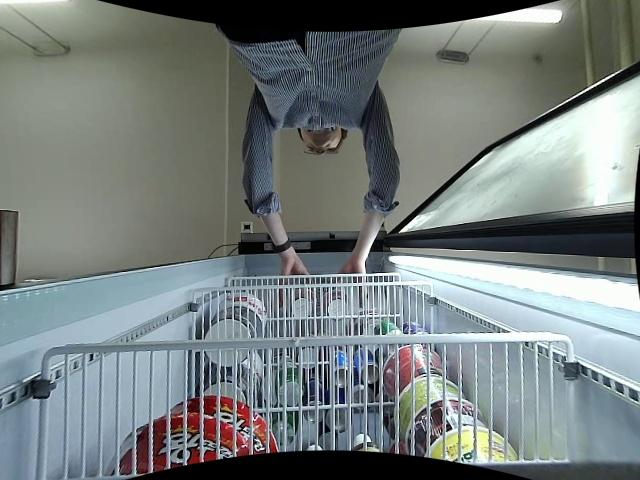00_hand: (337, 261, 369, 308), (280, 257, 312, 284)
